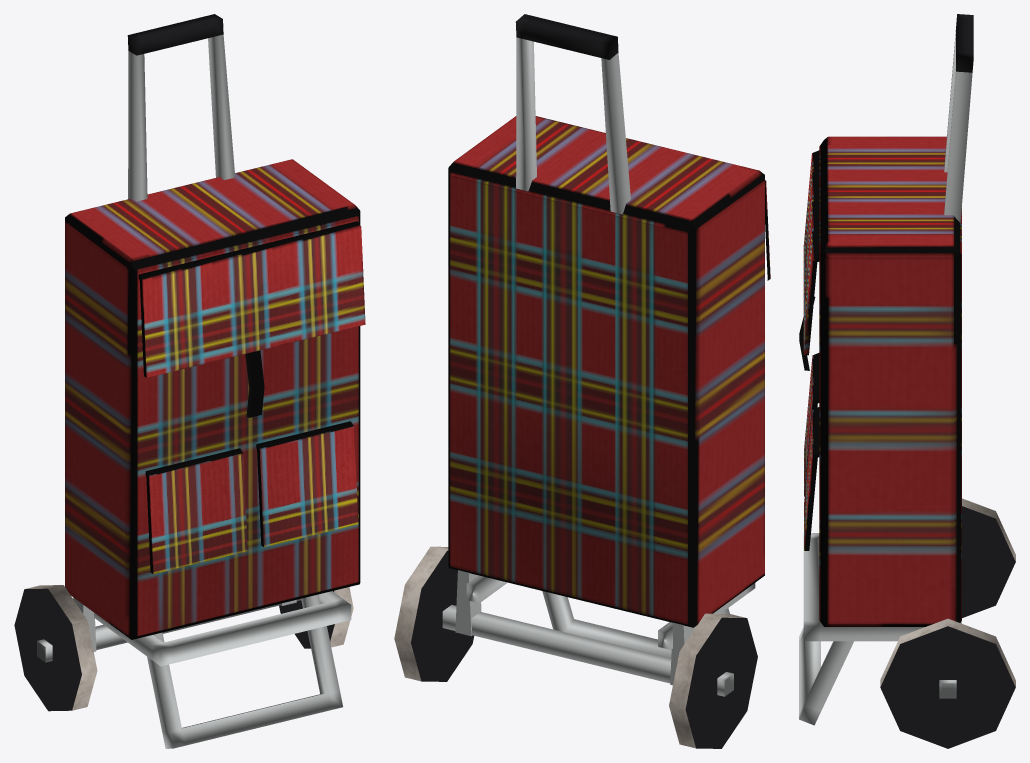
File: shoppingTrolley.glb
3 views of the same model, side by side, from view 1: azimuth 30°, elevation 25°; view 2: azimuth 150°, elevation 25°; view 3: azimuth 270°, elevation 25° (orthographic). The views are drawn at different scales.
Parts seen in each view (by area): view 1: SM_ShoppingTrolley; view 2: SM_ShoppingTrolley; view 3: SM_ShoppingTrolley.
Part boxes in pixels (bbox=[...]): SM_ShoppingTrolley: bbox=[14, 14, 365, 748]; SM_ShoppingTrolley: bbox=[394, 14, 770, 748]; SM_ShoppingTrolley: bbox=[799, 14, 1015, 748].
Bounding box in the file's own units: 0.5056 × 1.09 × 0.3311.
1 material, 1 textured.
